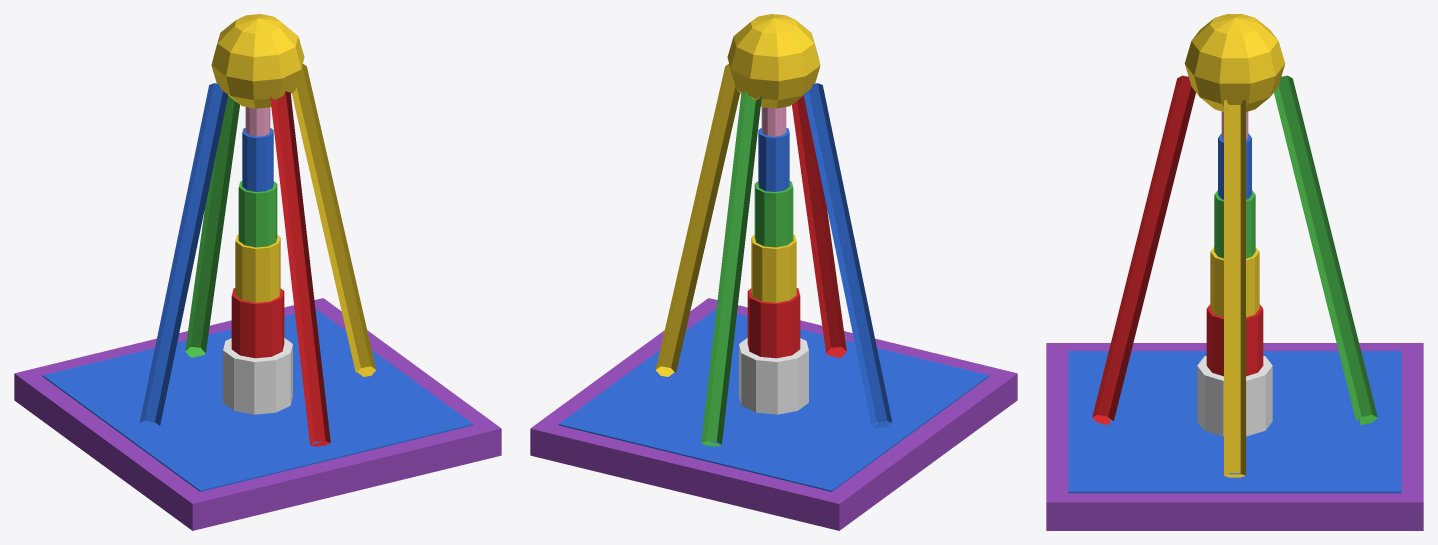
File: industry_other_plastic_fountain.glb
3 renders of one model, left to right at view 1: azimuth 30°, elevation 25°; view 2: azimuth 150°, elevation 25°; view 3: azimuth 270°, elevation 25°, orthographic. The views are drawn at different scales.
Size of the model in its own units: 12 by 15.2 by 12.
